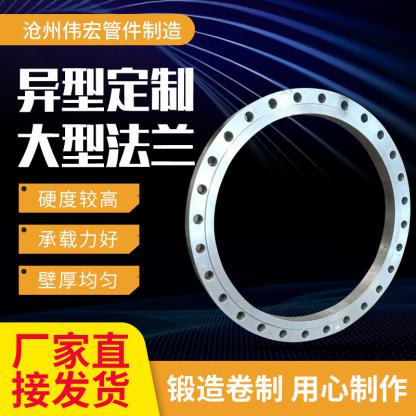FOD: (180, 83, 414, 346)
